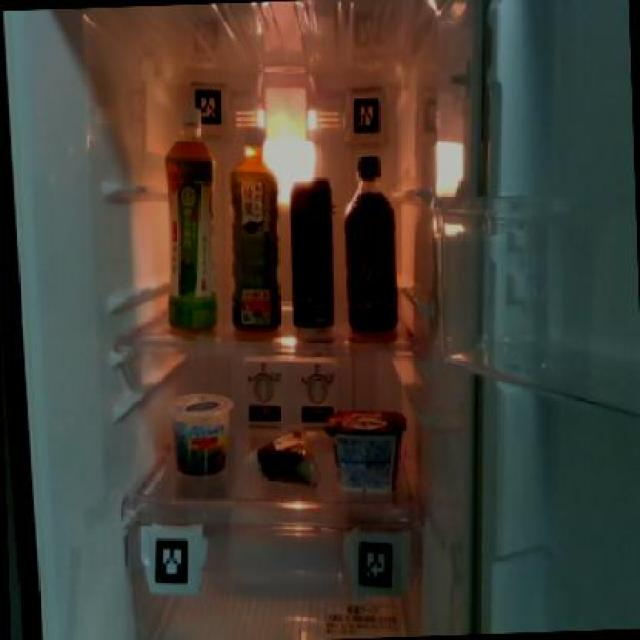coffee: (342, 152, 402, 334)
energy_drink: (287, 176, 336, 330)
pudding: (167, 384, 236, 482)
rice_ball: (246, 424, 319, 494)
tea_a: (224, 124, 284, 333)
tea_i: (158, 123, 222, 334)
yogurt: (327, 408, 407, 495)
